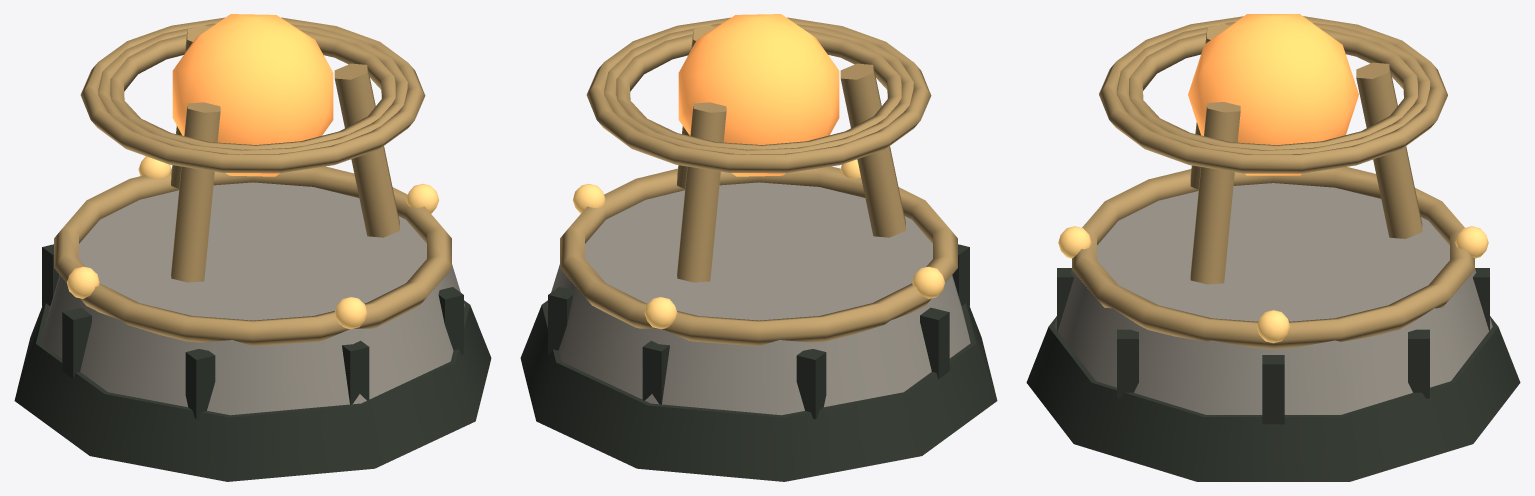
File: tower_meteor_meteorForge.glb
3 views of the same model, side by side, from view 1: azimuth 30°, elevation 25°; view 2: azimuth 150°, elevation 25°; view 3: azimuth 270°, elevation 25° (orthographic).
Visible parts, largest first — view 1: stone_1, foot_0, rim_2, meteor_18, armillary_21, armillary_19, claw_17, claw_16, armillary_20, mortar_6, mortar_7, mortar_5 (+7 smaller); view 2: stone_1, foot_0, rim_2, meteor_18, armillary_21, armillary_19, claw_15, claw_17, armillary_20, mortar_8, mortar_7, mortar_9 (+5 smaller); view 3: stone_1, foot_0, rim_2, meteor_18, armillary_21, armillary_19, claw_16, claw_15, armillary_20, mortar_3, mortar_4, mortar_10 (+5 smaller).
Part boxes in pixels (x1,y1,x2,y2): stone_1: (41, 182, 464, 415); foot_0: (14, 300, 491, 481); rim_2: (54, 166, 451, 346); meteor_18: (172, 14, 333, 176); armillary_21: (80, 17, 425, 173); armillary_19: (110, 29, 395, 149); claw_17: (171, 102, 220, 282); claw_16: (334, 63, 399, 237); armillary_20: (98, 23, 407, 154); mortar_6: (185, 349, 215, 419); mortar_7: (62, 307, 91, 379); mortar_5: (342, 340, 369, 404); stone_1: (547, 182, 970, 415); foot_0: (520, 300, 997, 481); rim_2: (560, 166, 957, 346); meteor_18: (678, 14, 839, 176); armillary_21: (586, 17, 931, 173); armillary_19: (616, 29, 901, 149); claw_15: (677, 102, 726, 282); claw_17: (840, 63, 905, 237); armillary_20: (604, 23, 913, 154); mortar_8: (796, 349, 826, 419); mortar_7: (920, 307, 949, 379); mortar_9: (642, 340, 669, 404); stone_1: (1054, 183, 1492, 414); foot_0: (1026, 316, 1520, 481); rim_2: (1072, 167, 1474, 349); meteor_18: (1188, 14, 1358, 175); armillary_21: (1099, 16, 1447, 173); armillary_19: (1129, 28, 1417, 149); claw_16: (1190, 102, 1240, 284); claw_15: (1356, 62, 1422, 238); armillary_20: (1116, 22, 1430, 154); mortar_3: (1262, 355, 1284, 424); mortar_4: (1117, 329, 1138, 398); mortar_10: (1408, 329, 1429, 398).
Bounding box in the file's own units: 0.5326 × 0.457 × 0.56.
